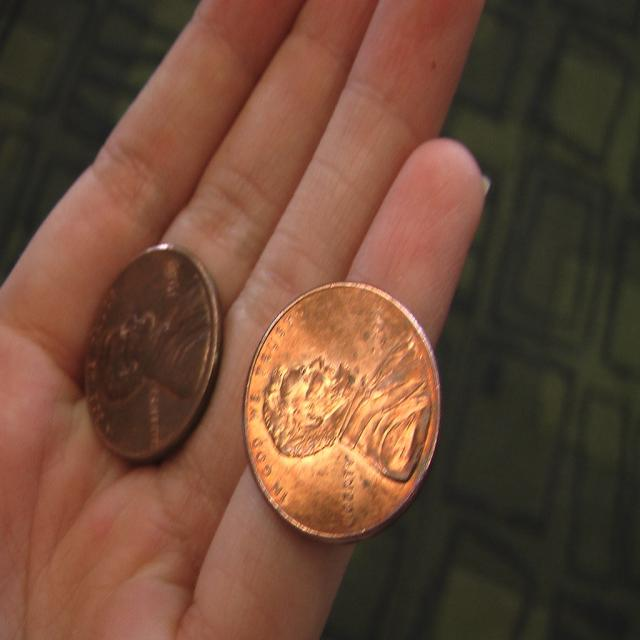Coin: (240, 280, 443, 546), (80, 240, 222, 467)
